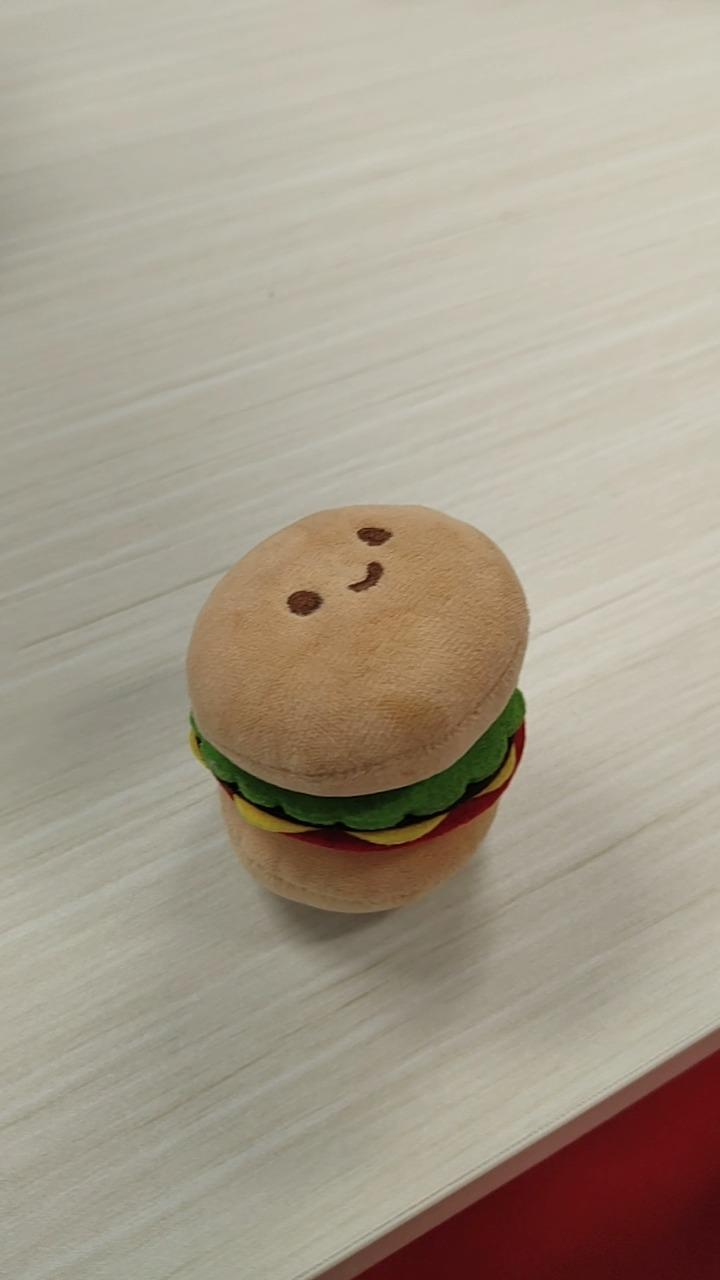hamburger: (184, 501, 530, 915)
